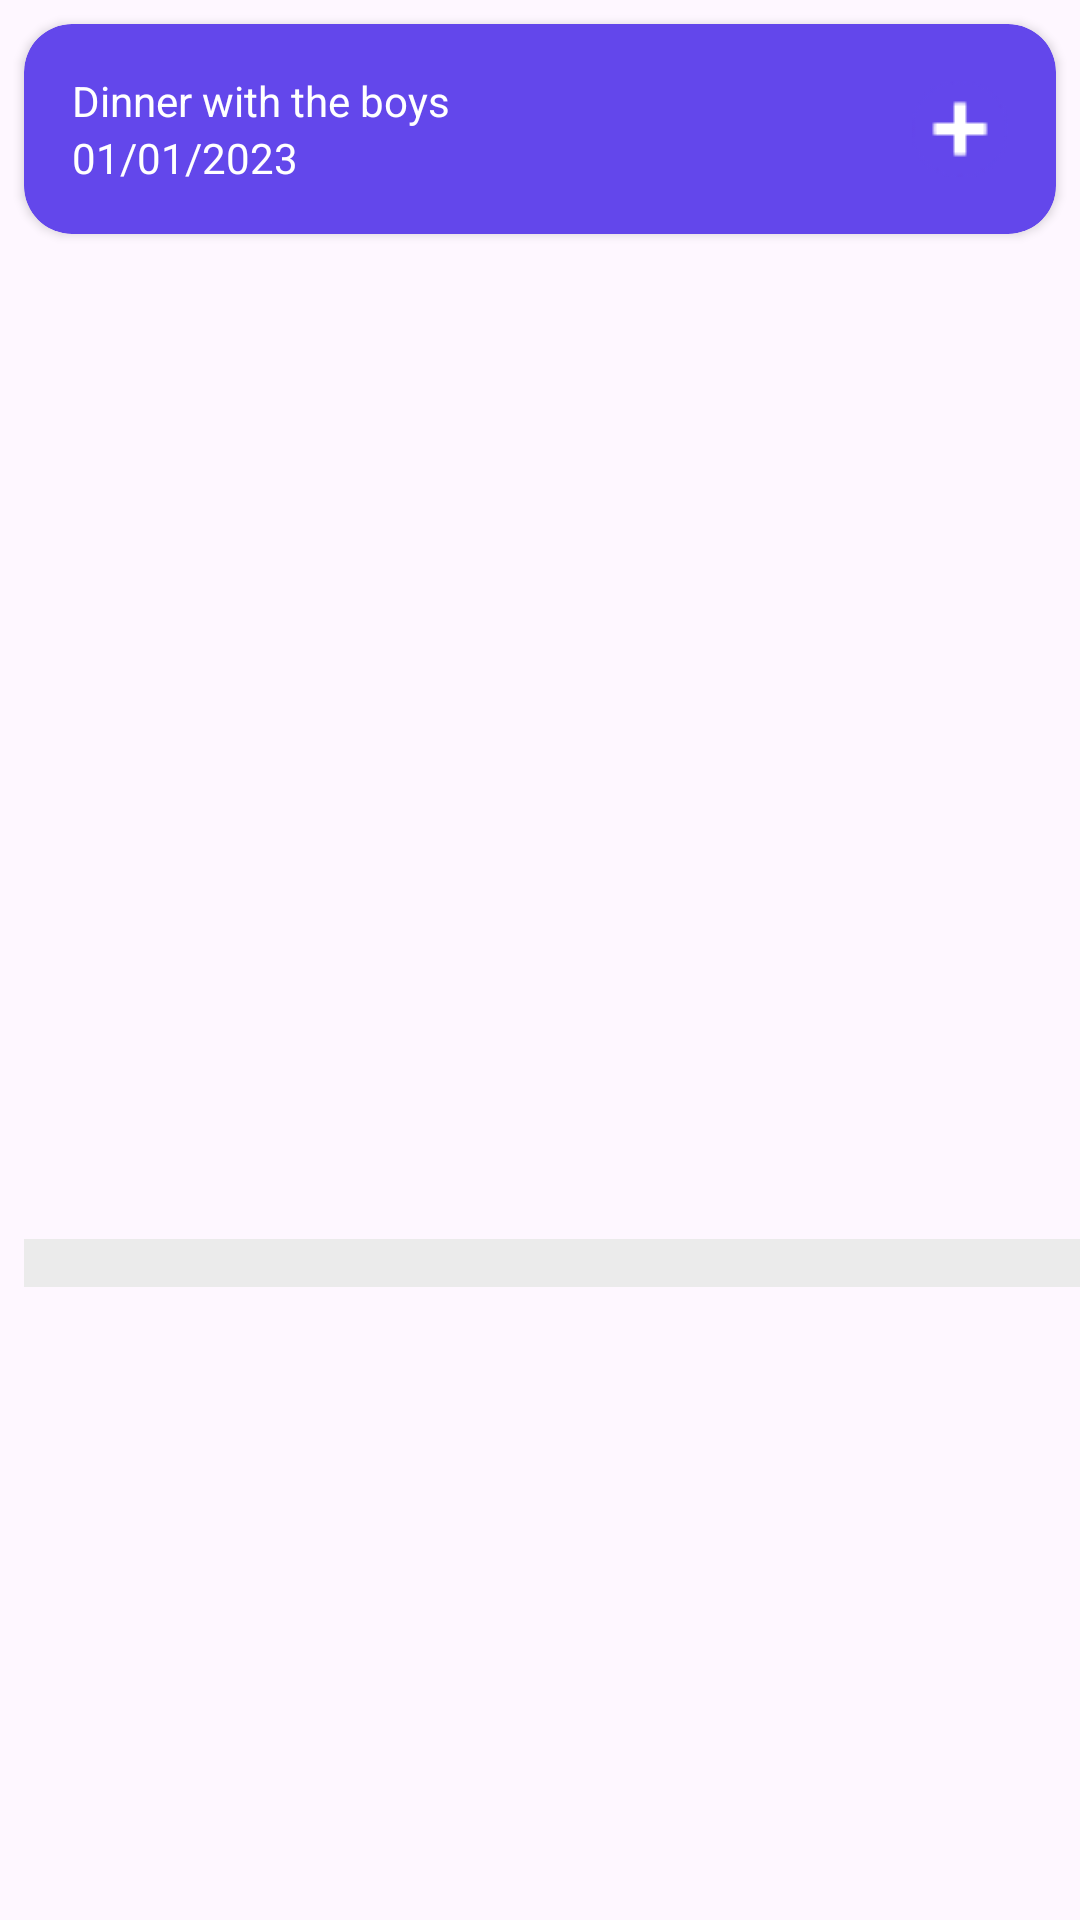

Screen size 1080×1920. Icon name, then its center in pixels as point (x, y):
plus: point (960, 129)
